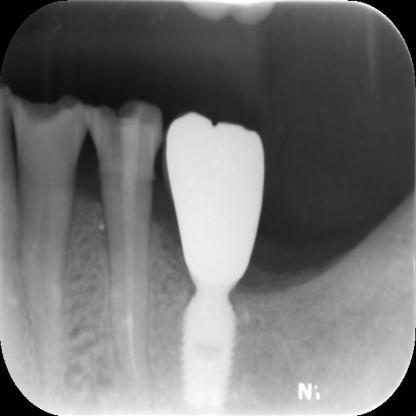Bicon: (177, 278, 236, 415)
